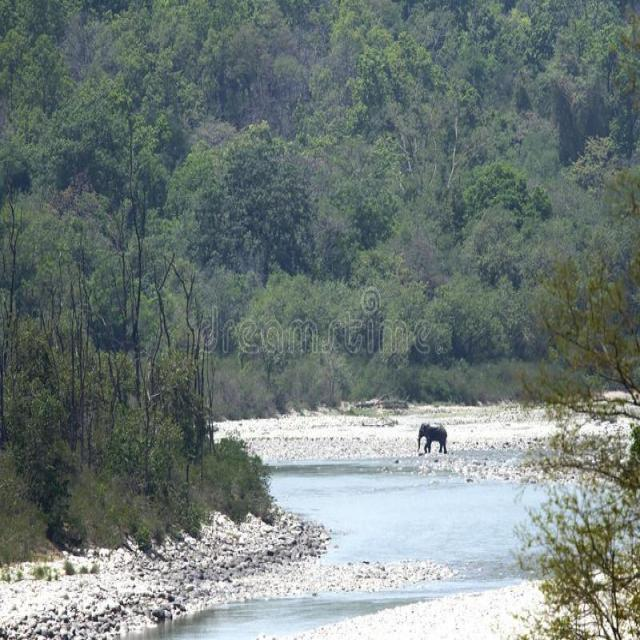Elephant: (416, 417, 450, 466)
